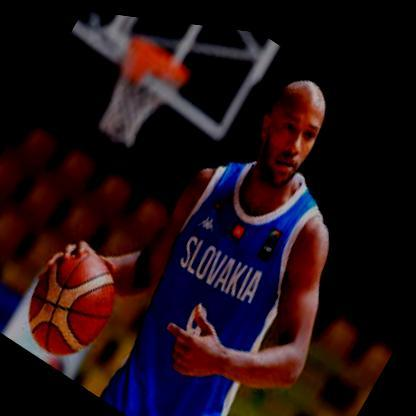basketball: (13, 231, 130, 374)
